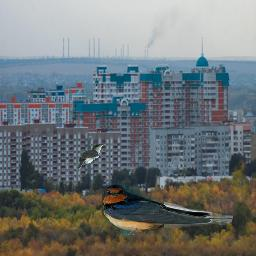Cuckoo: (76, 143, 106, 170)
Swallow: (99, 181, 233, 235)
